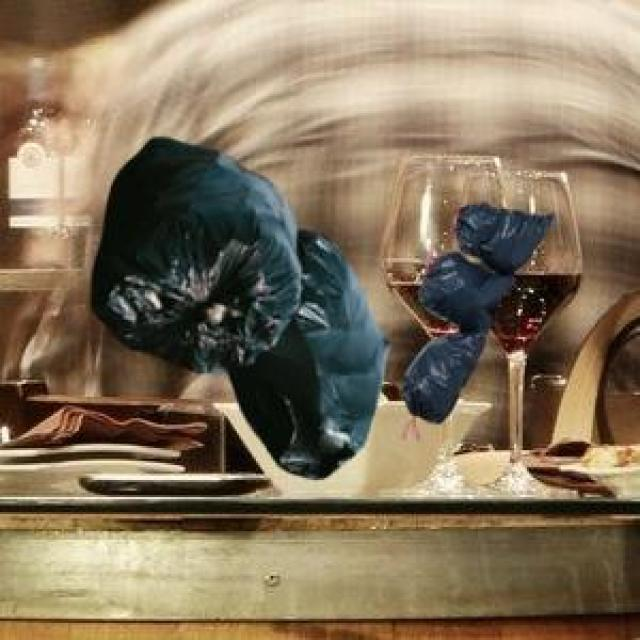Vinyl: (92, 138, 385, 478), (404, 204, 551, 422)
